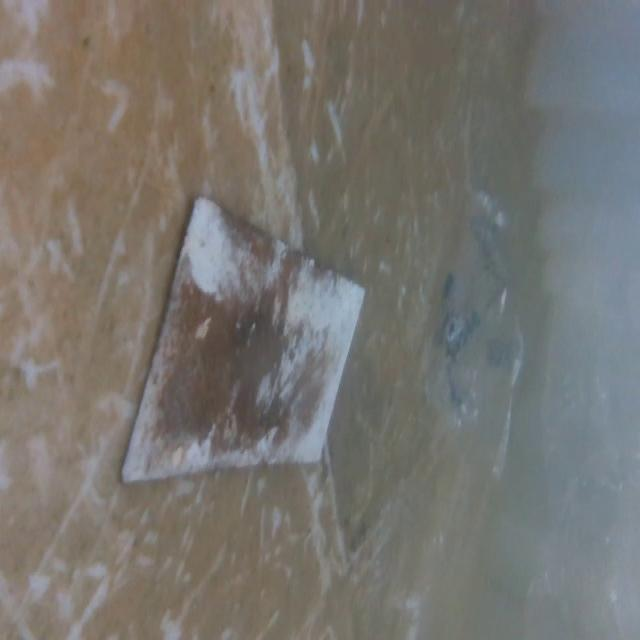metal: (116, 196, 368, 477)
plastic bags: (419, 181, 528, 483)
